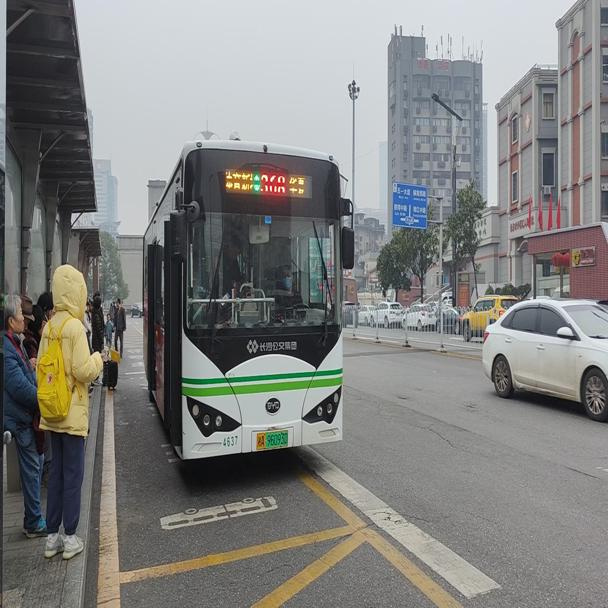bus: (138, 136, 342, 454)
screen: (259, 166, 286, 193)
